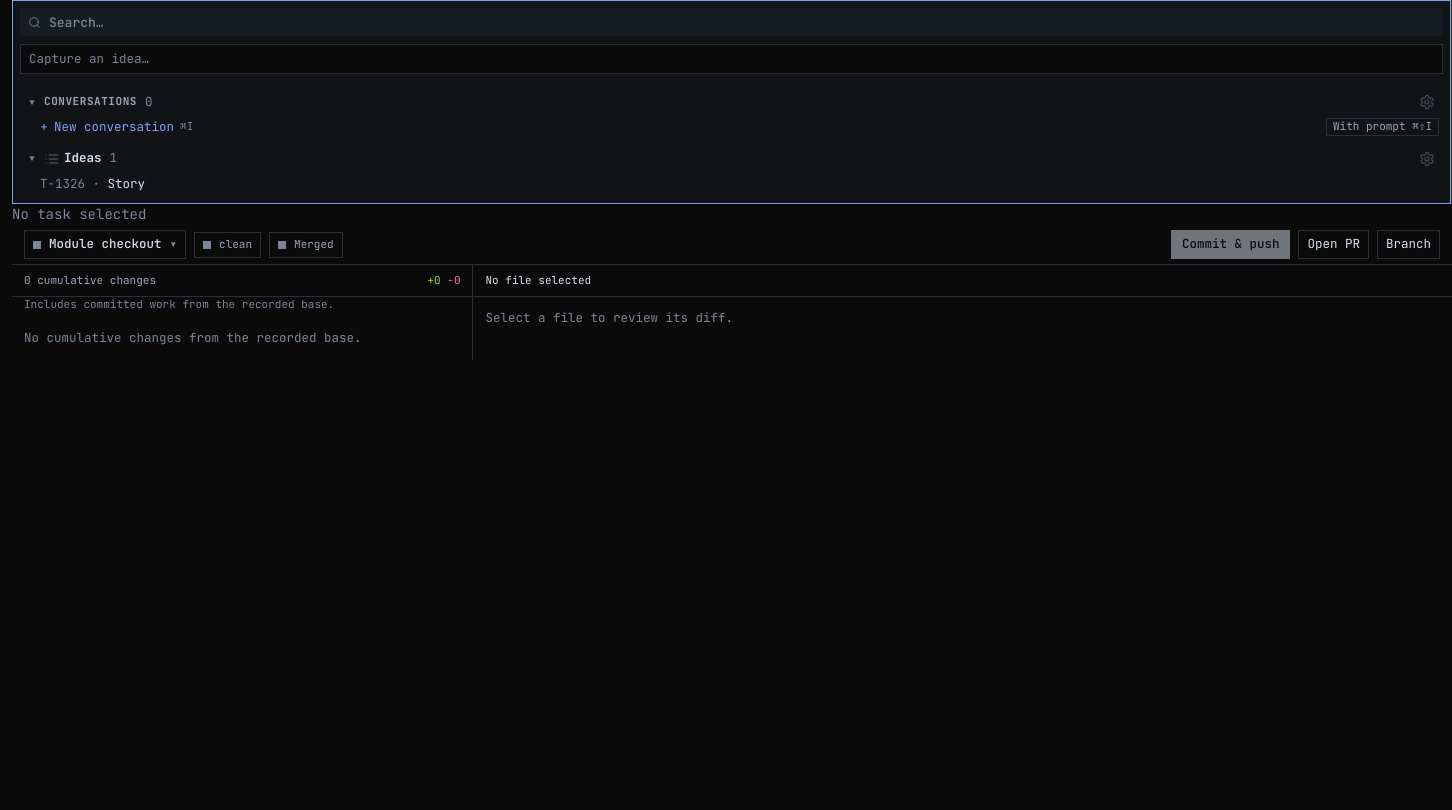
it: overhaul acceptance - merged worktree cleanup › [overhaul-200] explains cleanup blocker pull_request_wrong_base without offering removal
Click the button "Branch" at (1408, 245), box [1377,230,1440,259]
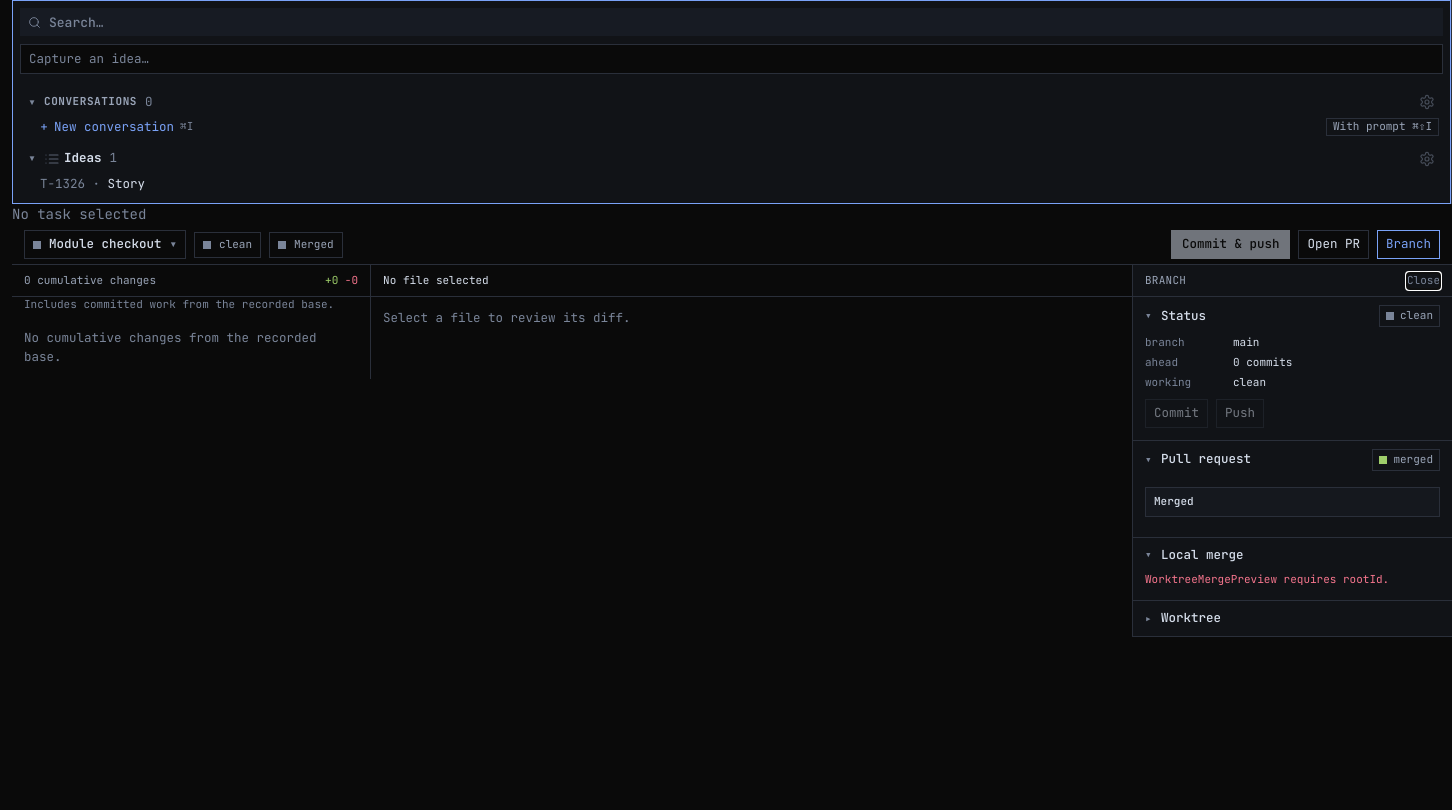
Check: the element with test id "changes-branch-inspector" is shown, box [1132,265,1451,637]
Click the heading "▸ Worktree" at (1183, 618), box [1145,609,1221,626]
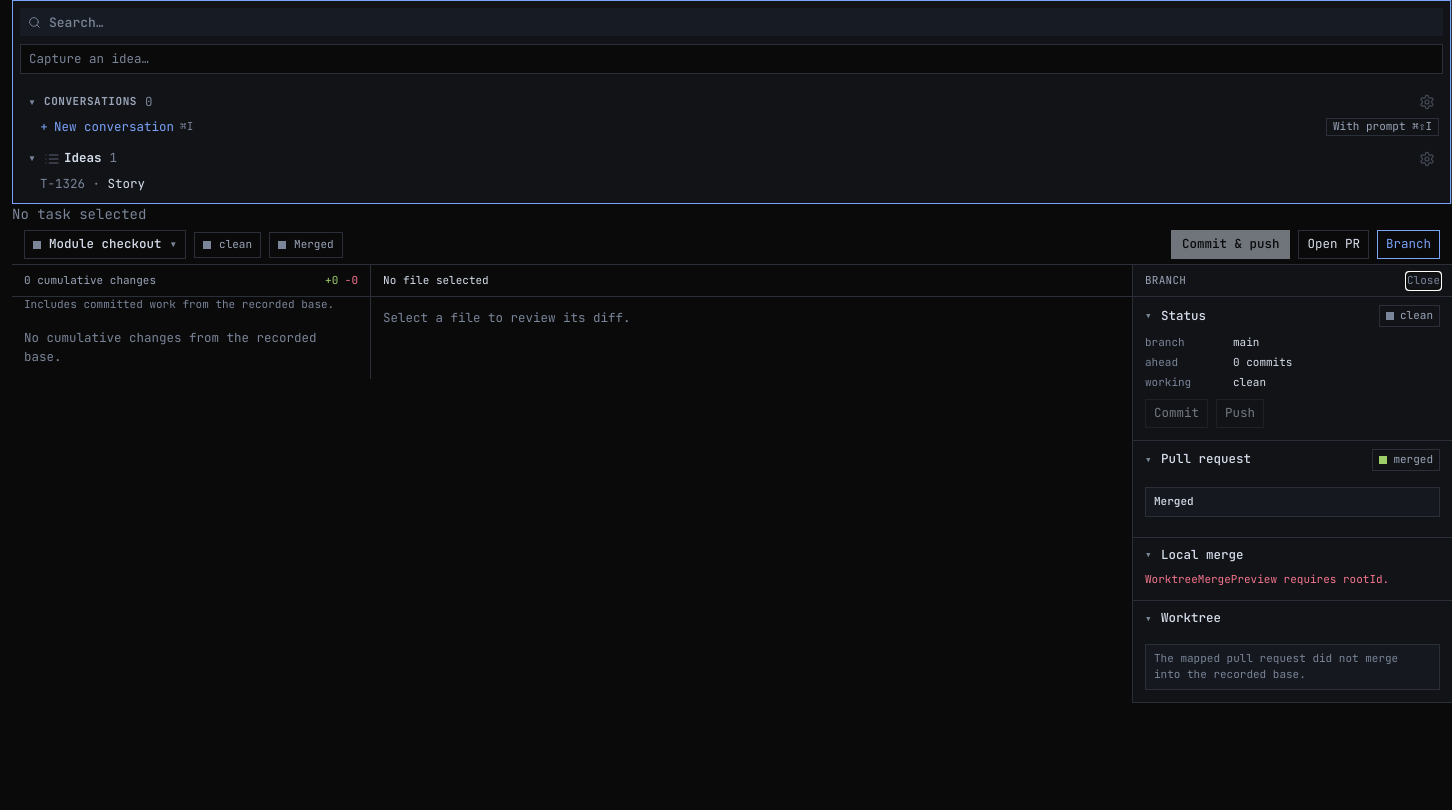
Check: the text named "Worktree cleanup status" reads "The mapped pull request did not merge into the recorded base.", box [1154,651,1398,681]
